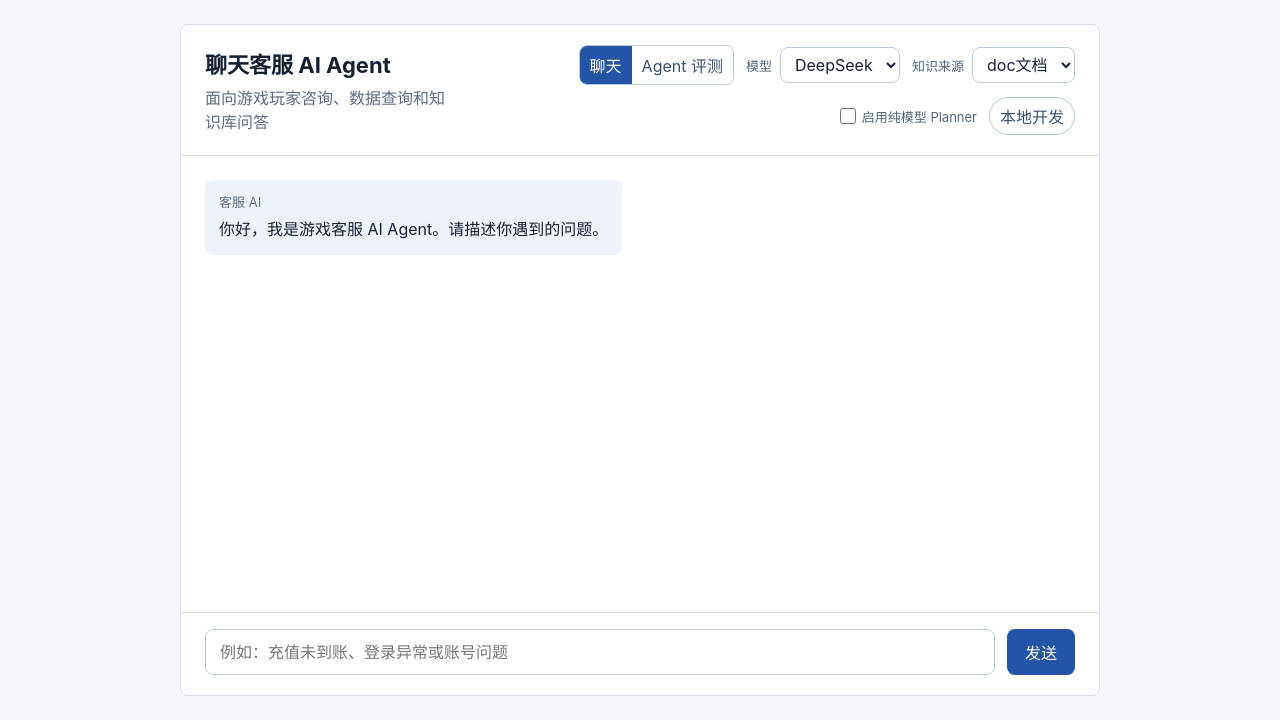
Test case: App › shows an error message when REST chat API fails
Type "我的角色卡住了" into the field named "输入玩家问题" at (600, 652), box [205,629,995,675]
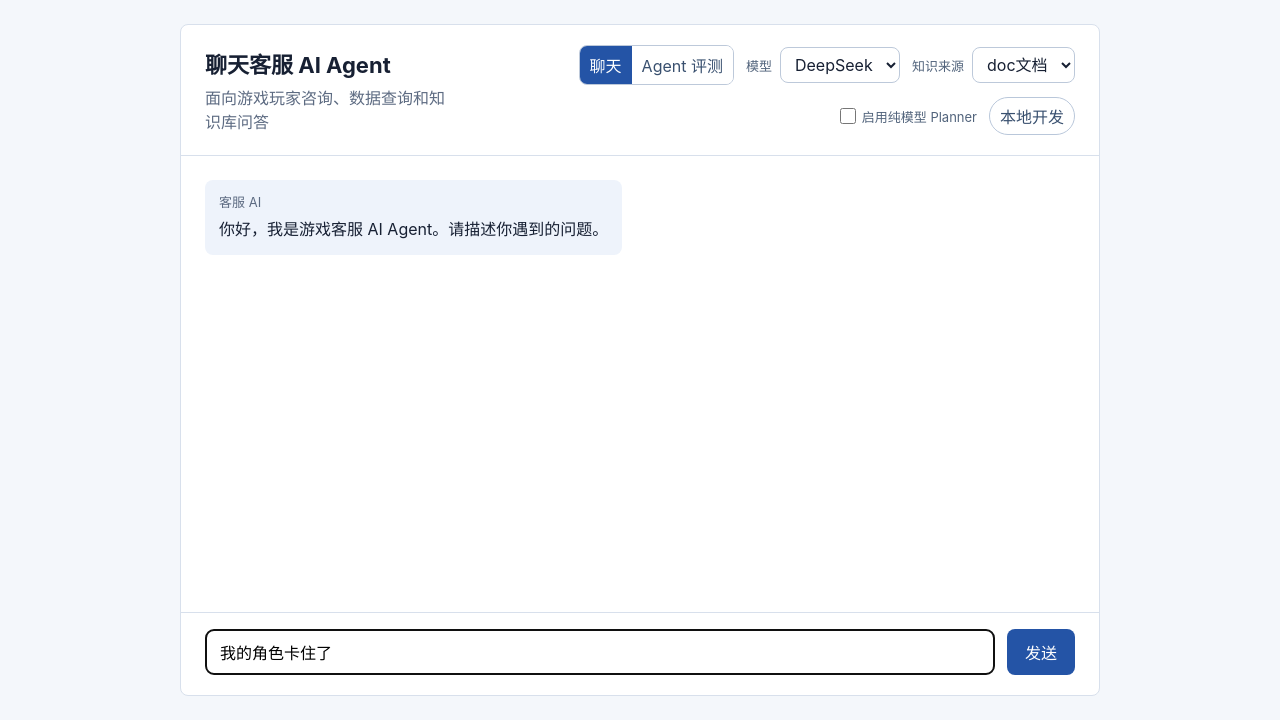
Click the button "发送" at (1041, 652), box [1007,629,1075,675]
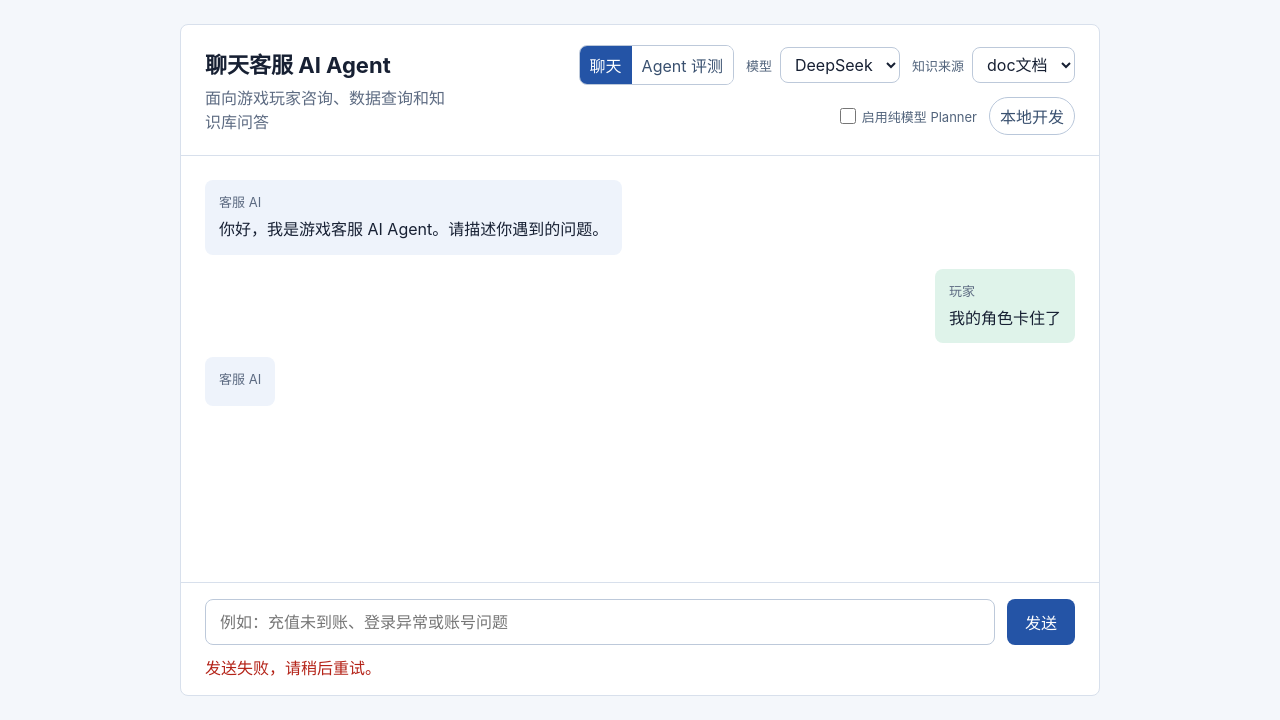
Now the text "发送失败，请稍后重试。" is shown, box [205,658,381,678]
